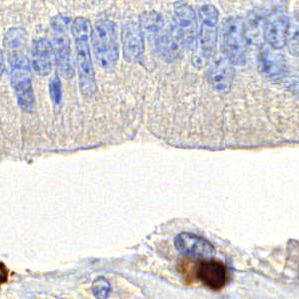Lymphocyte: (197, 252, 228, 293)
